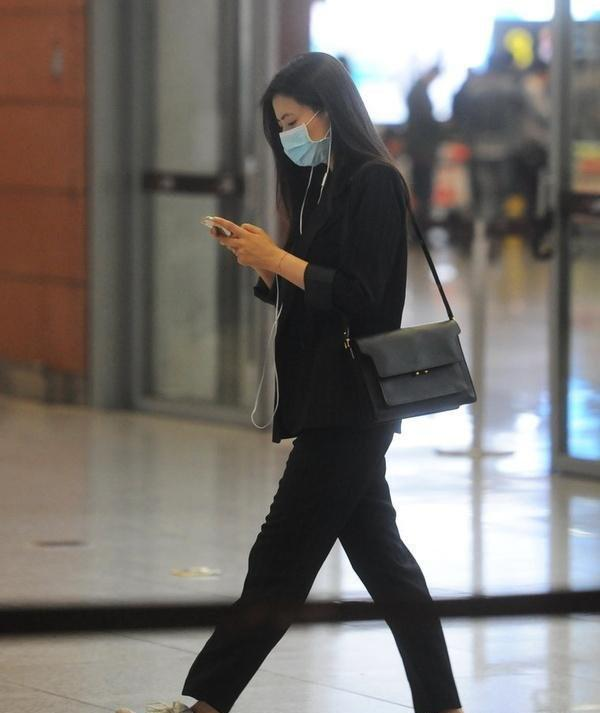OK: (271, 100, 337, 166)
